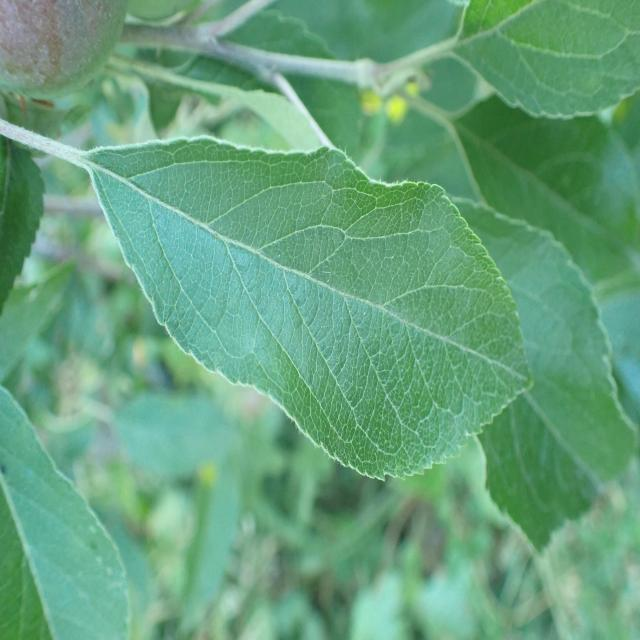healthy: (87, 135, 534, 482), (454, 194, 638, 555), (0, 384, 130, 640), (451, 0, 640, 119)
